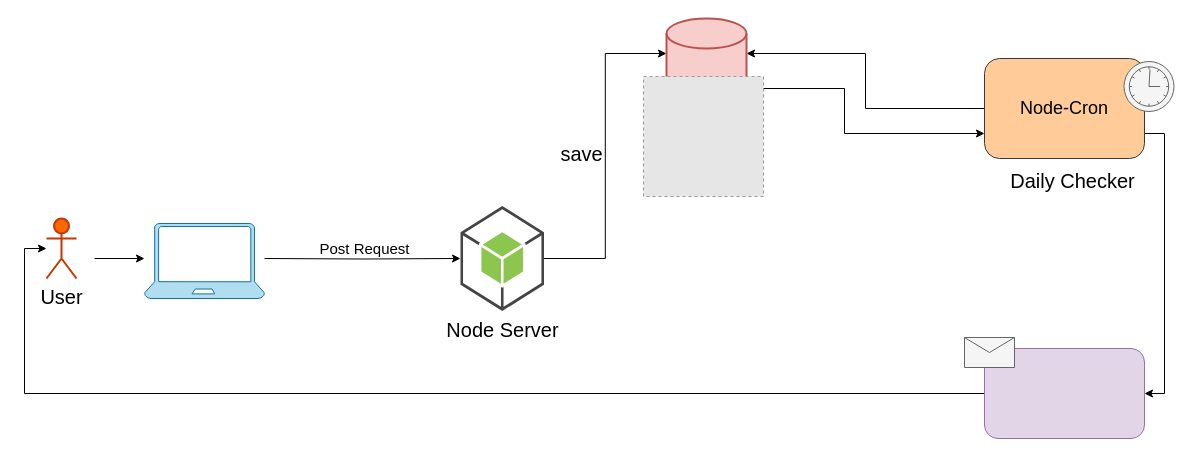
The diagram is 1196 pixels wide and 456 high, and some of its shapes have lost their labels. Grey dashed boxes stand in for pictures. The box of each missing label's shape, as (x1, y1, x2, y2) in pixels:
Client: (144, 222, 264, 298)
Node Mailer: (984, 348, 1144, 438)
